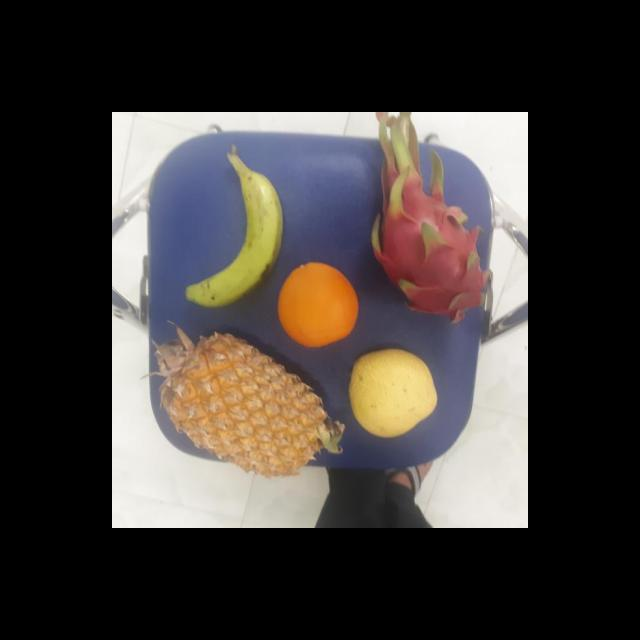banana: (186, 158, 284, 308)
orange: (276, 260, 361, 349)
pear: (346, 349, 436, 439)
pineapple: (148, 334, 334, 482)
pitaya: (364, 150, 492, 324)
